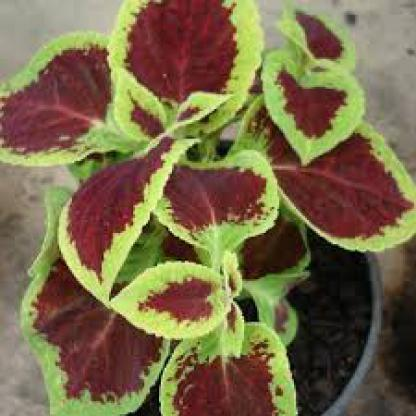Bunga Coleus: (31, 21, 340, 393)
